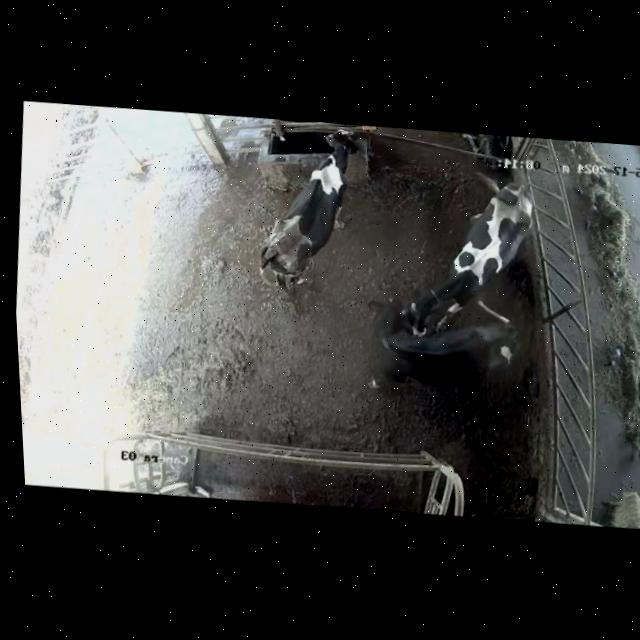drink: (302, 113, 377, 199)
stand: (392, 165, 546, 344), (339, 295, 542, 404)
